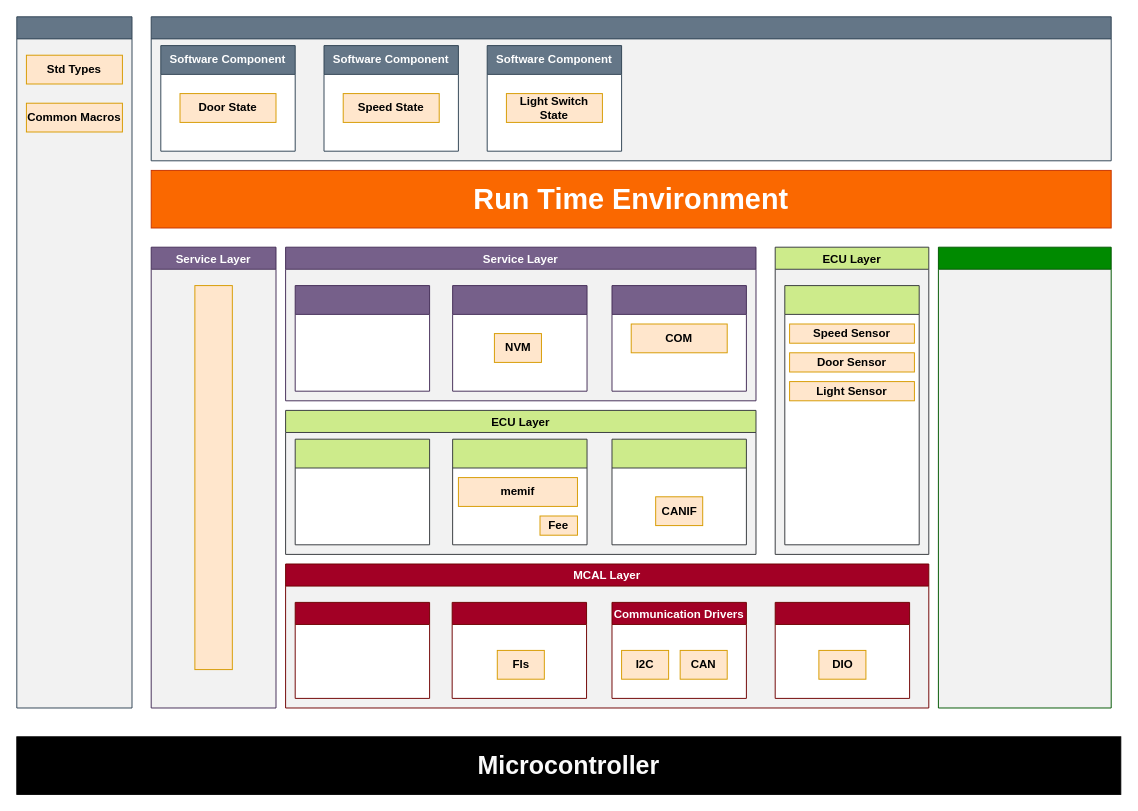
This 1138x811 diagram has some shape labels left out. Each missing label, with the box of its shape:
Application Layer: (150, 16, 1111, 161)
AUTOSAR OS: (194, 285, 232, 670)
Communication Hardware Abstraction: (611, 438, 746, 545)
Communication Services: (611, 285, 746, 391)
Complex Drivers: (937, 246, 1111, 708)
I/O Drivers: (774, 601, 910, 698)
I/O Hardware Abstraction: (784, 285, 919, 545)
Libraries: (16, 16, 132, 708)
Memory Drivers: (451, 601, 587, 698)
Memory Hardware Abstraction: (452, 438, 587, 545)
Memory Services: (452, 285, 587, 391)
Microcontroller Drivers: (294, 601, 430, 698)
Onboard Device Abstraction: (294, 438, 430, 545)
System Services: (294, 285, 430, 391)
